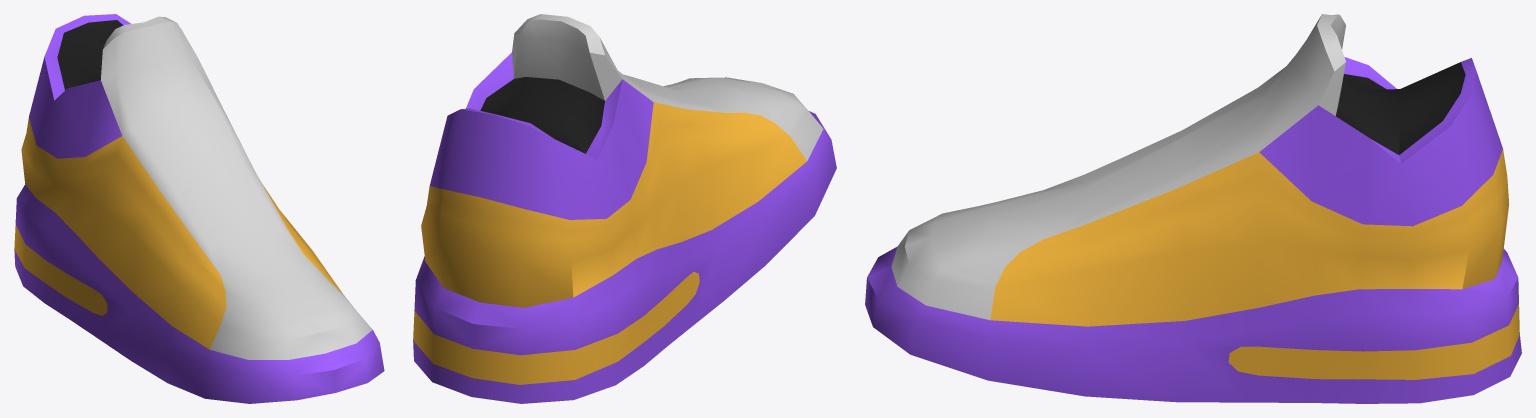
The model's file is Sneaker C.fbx.
3 views of the same model, side by side, from view 1: azimuth 30°, elevation 25°; view 2: azimuth 150°, elevation 25°; view 3: azimuth 270°, elevation 25° (orthographic). The views are drawn at different scales.
Visible parts, largest first — view 1: Sneakers C; view 2: Sneakers C; view 3: Sneakers C.
Part boxes in pixels (left/top/right/bottom): Sneakers C: left=14, top=14, right=384, bottom=403; Sneakers C: left=413, top=14, right=836, bottom=403; Sneakers C: left=865, top=14, right=1521, bottom=403.
Size of the model in its own units: 35.38 by 53.81 by 96.74.
